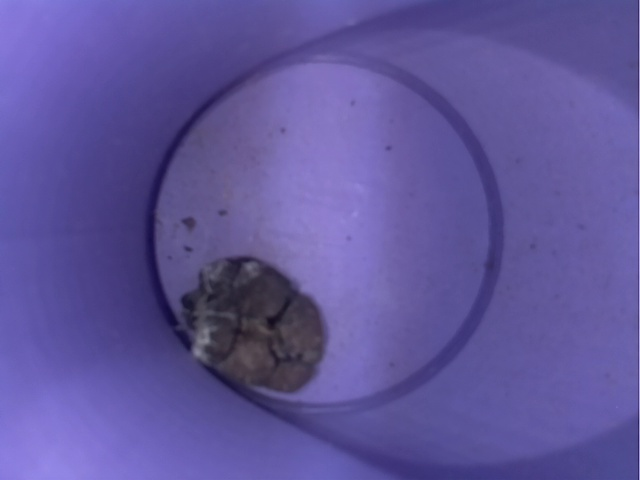ecorce: (159, 233, 335, 402)
